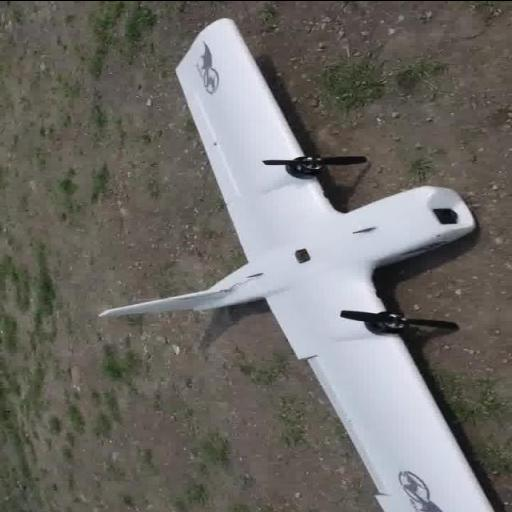uav: (94, 15, 502, 512)
